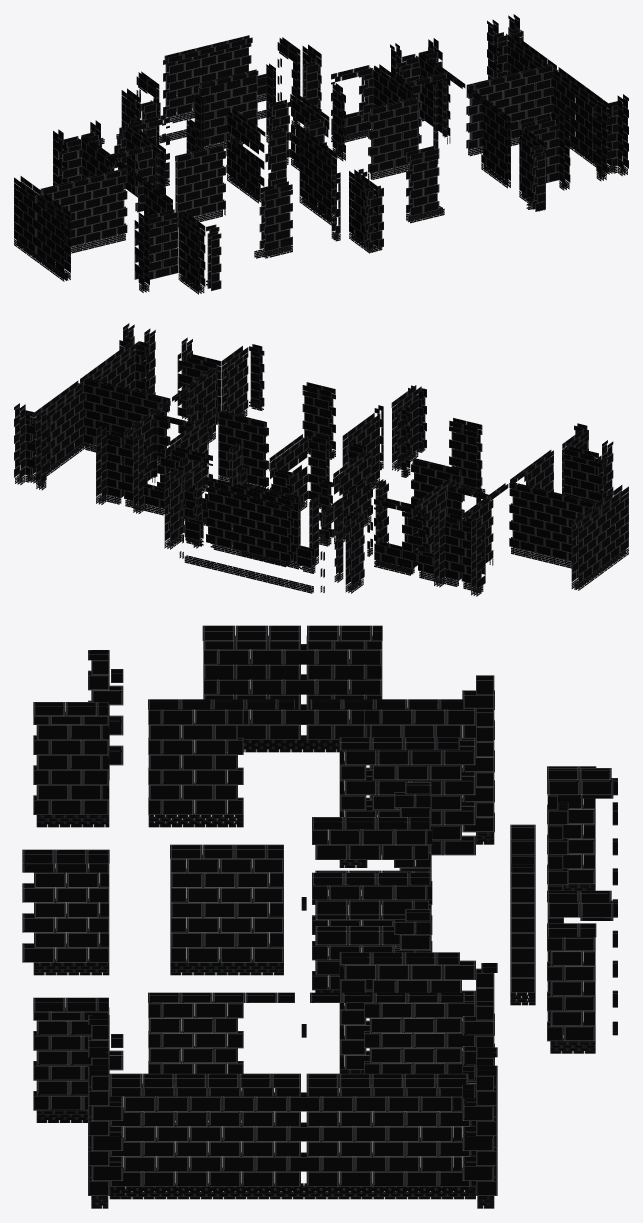
The model's file is edges.glb.
The picture shows the model from 3 angles, top to bottom: view 1: azimuth 30°, elevation 25°; view 2: azimuth 150°, elevation 25°; view 3: azimuth 270°, elevation 25°; orthographic projection. The views are drawn at different scales.
Visible parts, largest first — view 1: E_F02, E_F03; view 2: E_F02, E_F03; view 3: E_F02.
Part boxes in pixels (x1,y1,x2,y2): E_F02: (14,14,628,294); E_F03: (164,35,252,63); E_F02: (14,323,628,596); E_F03: (207,478,295,505); E_F02: (22,625,617,1208).
Bounding box in the file's own units: 20 × 3.11 × 11.25.
1 material, 1 textured.
